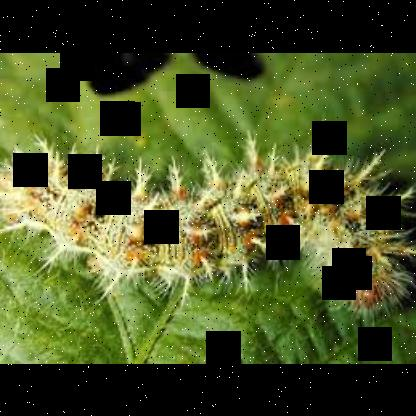oruga: (0, 118, 416, 324)
